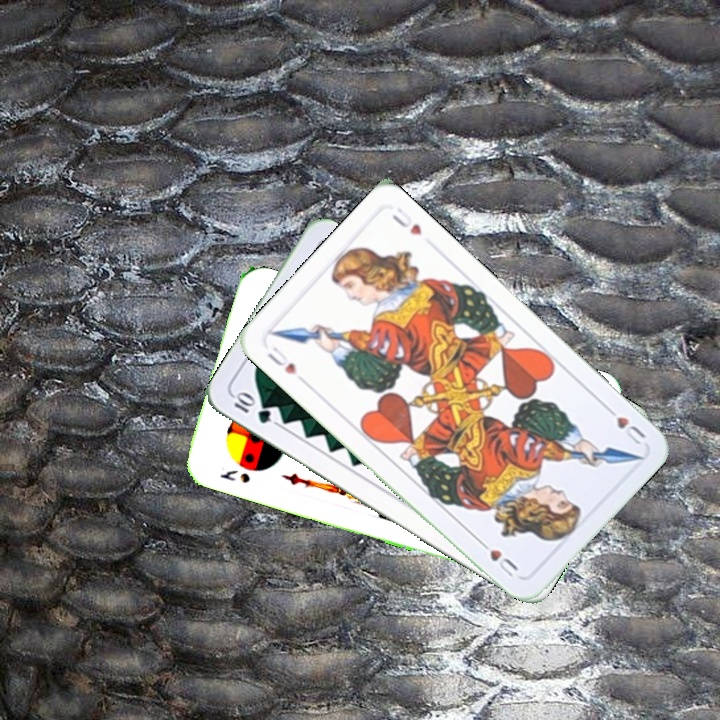G10: (229, 389, 275, 427)
HU: (600, 401, 649, 448), (263, 342, 299, 378)
SK: (215, 466, 253, 486)
